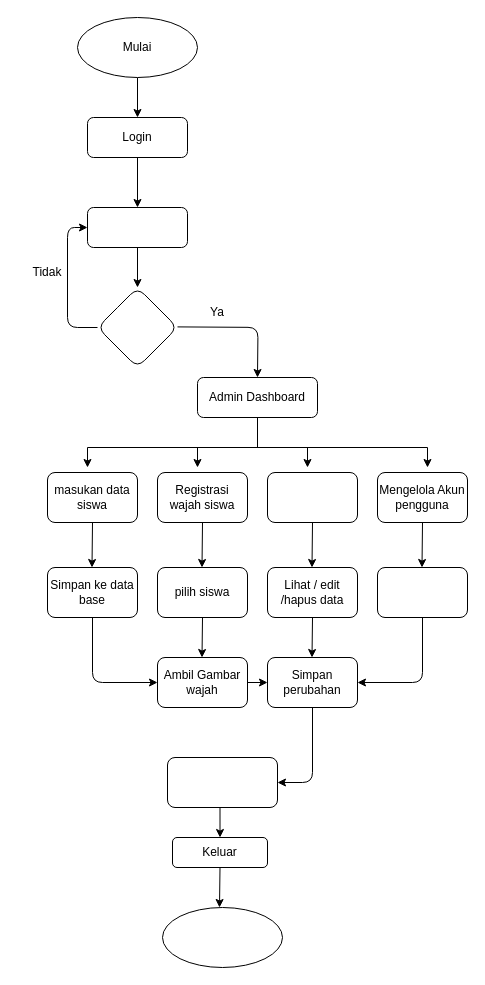
Some shapes in this 485 by 985 pixel diagram are drawn without their labels. The shapes that lost their labels are listed below. From the top down, each one's centre as x and y in pixels, then its label:
the point at 137,227: Masukkan username dan passsword
the point at 137,327: valid?
the point at 312,497: Mengelola DataBasis
the point at 422,592: tambah / edit / hapus akun
the point at 222,782: Kembali ke Dashboard
the point at 222,937: Selesai
